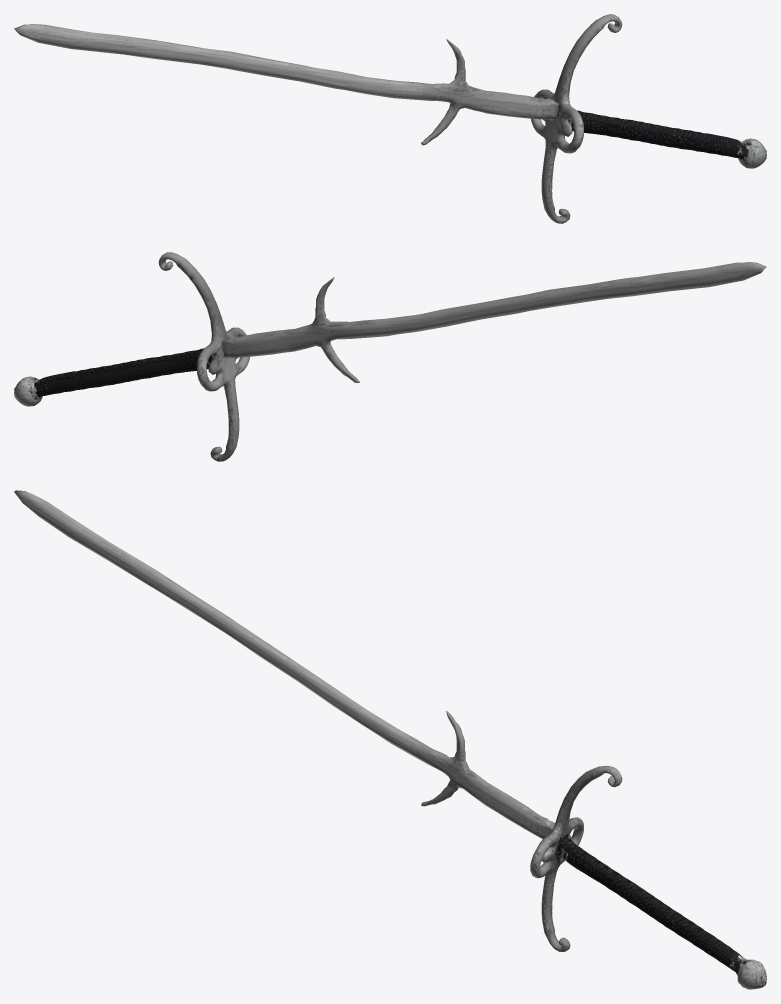
File: Zweihander.fbx
3 views of the same model, one above another, from view 1: azimuth 30°, elevation 25°; view 2: azimuth 150°, elevation 25°; view 3: azimuth 330°, elevation 25° (orthographic).
Parts seen in each view (by area): view 1: part_2, part_0, part_1; view 2: part_2, part_0, part_1; view 3: part_2, part_1, part_0.
Part boxes in pixels (x1,y1,x2,y2): part_2: (14,24,559,145); part_0: (531,14,622,223); part_1: (568,110,766,168); part_2: (221,262,766,382); part_0: (158,252,249,461); part_1: (14,348,212,406); part_2: (14,490,555,839); part_1: (557,835,766,989); part_0: (530,765,622,951).
Bounding box in the file's own units: 111 × 46.33 × 12.07.
Materials: 1 (1 with a texture image).
